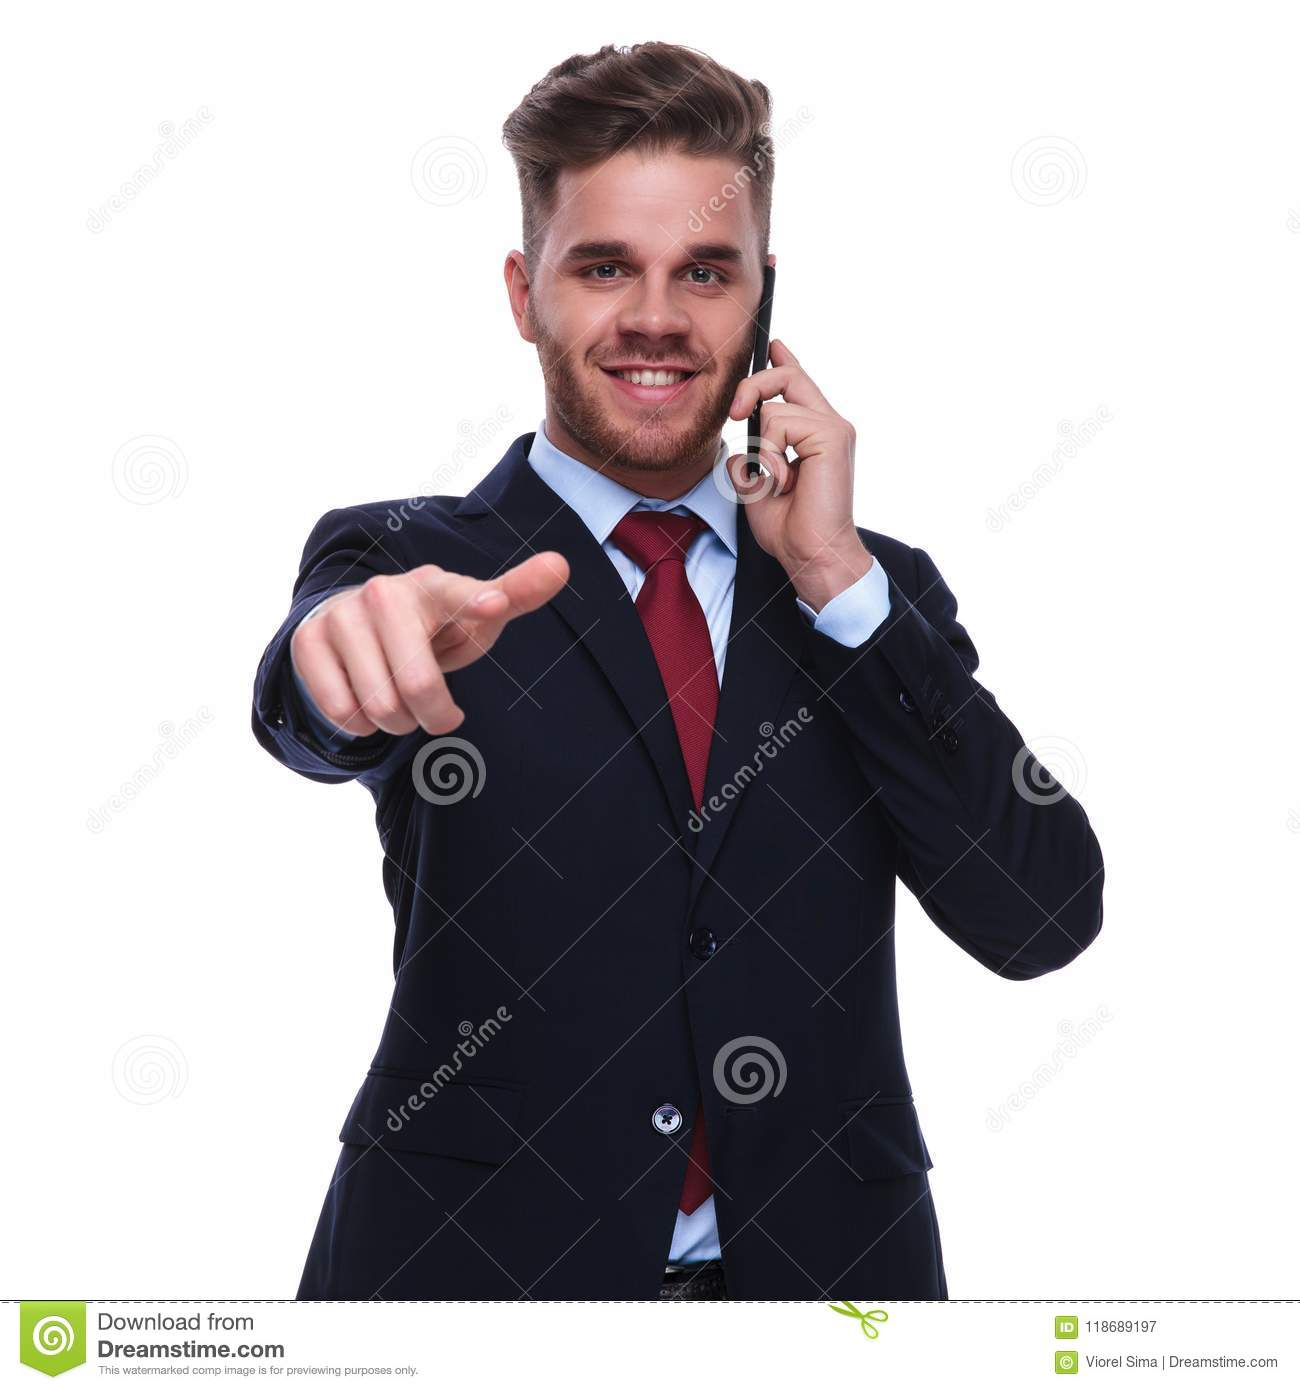phone: (740, 255, 776, 517)
talk: (549, 217, 876, 584)
